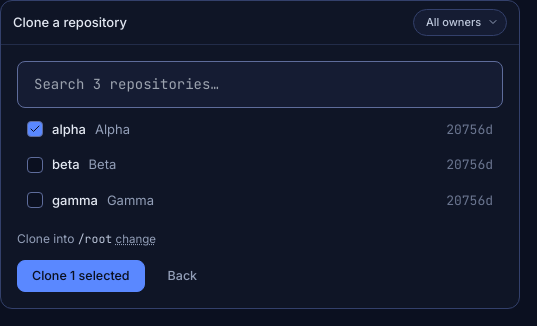
Test case: CloneFromGitHub picker › a failed clone shows the box's sentence — never the raw git output (WS11 D5 / S8)
Click the button "Clone 1 selected" at [81, 276], box [17, 260, 145, 292]
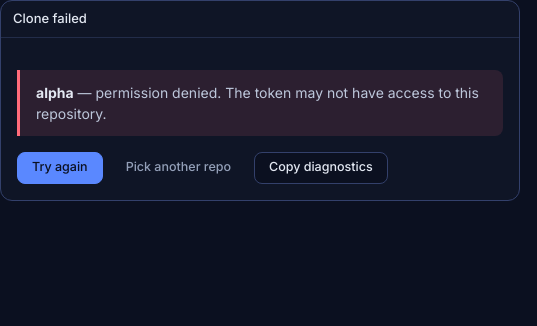
Check: the text "permission denied. The token may not have access to this repository." is shown, box [36, 84, 479, 122]
